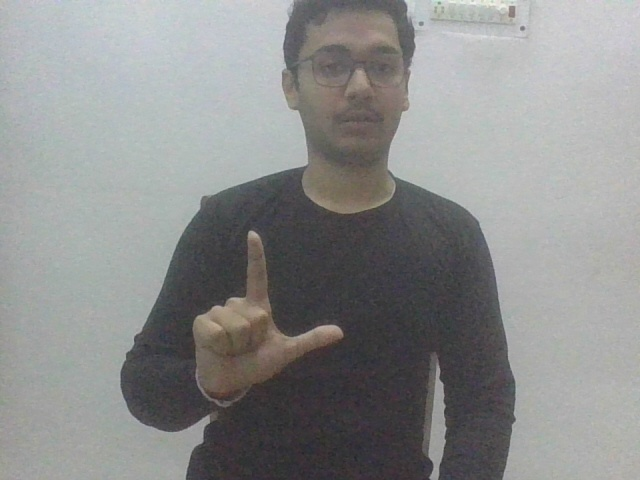L: (191, 232, 345, 406)
